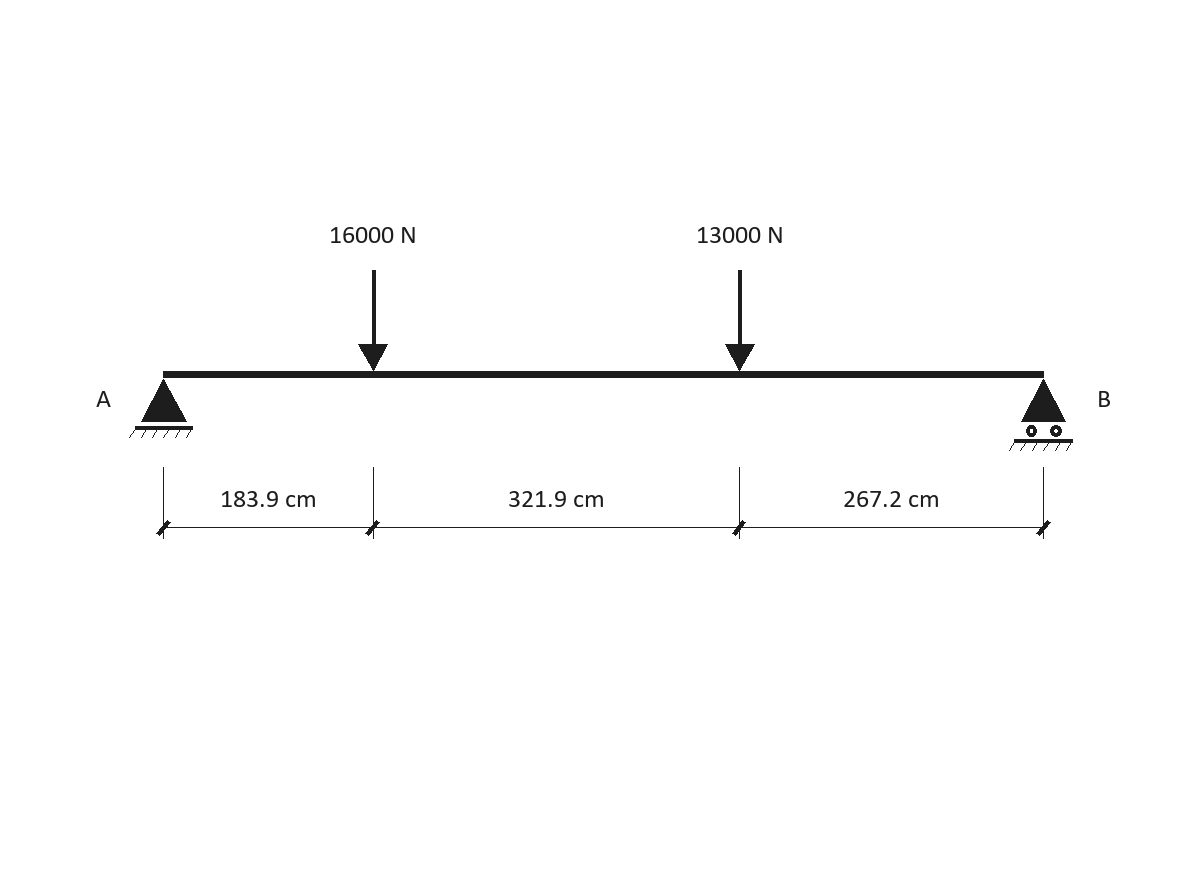pin_support: (129, 379, 193, 438)
point_load: (358, 270, 388, 371), (725, 270, 755, 371)
roller_support: (1009, 379, 1073, 451)
